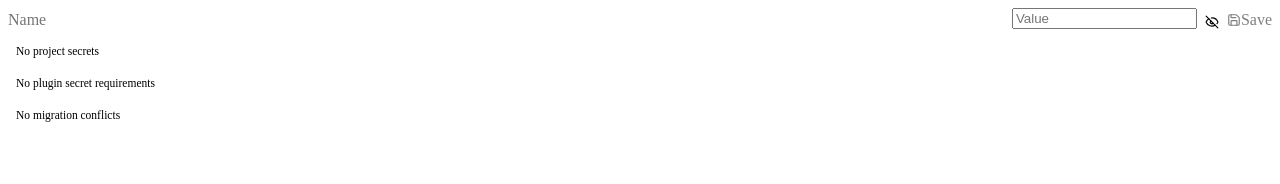
Test: project completion preserves a newer typed draft and refuses duplicate submissions
Type "FIRST" into the field named "Project secret name" at (506, 20), box [8,11,1004,29]
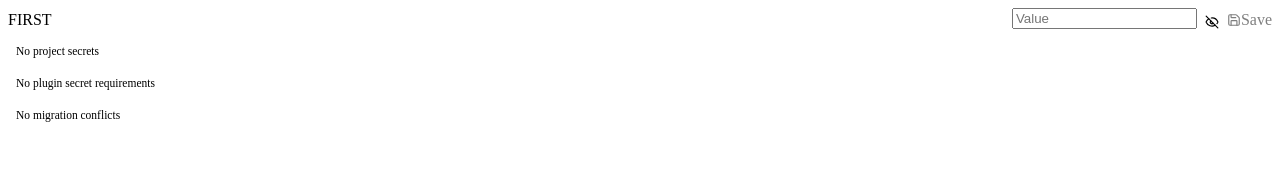
Type "first-value" into the field named "Project secret value" at (1104, 18), box [1012,8,1197,29]
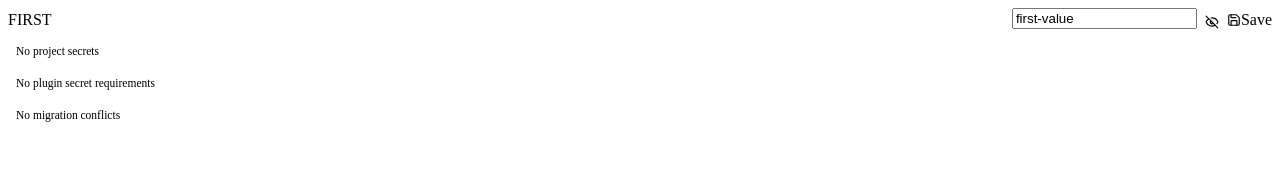
Submit the form named "Project secret name", box [8,8,1272,29]
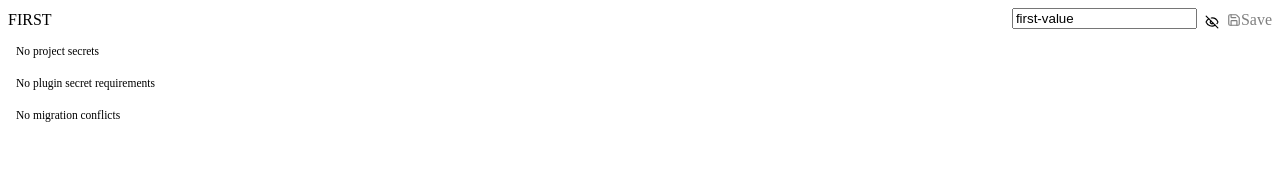
Submit the form named "Project secret name", box [8,8,1272,29]
Replace the text in the field named "Project secret name" with "SECOND" at (506, 20), box [8,11,1004,29]
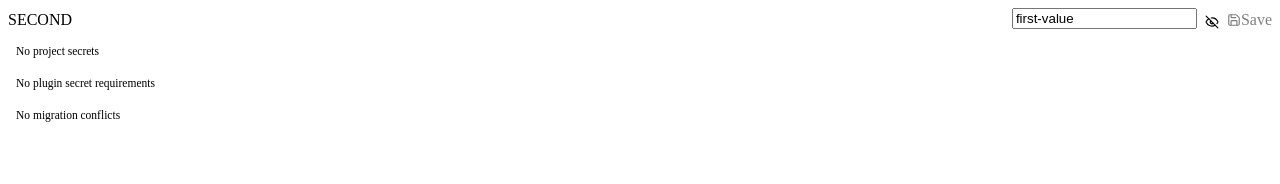
Replace the text in the field named "Project secret value" with "second-value" at (1104, 18), box [1012,8,1197,29]
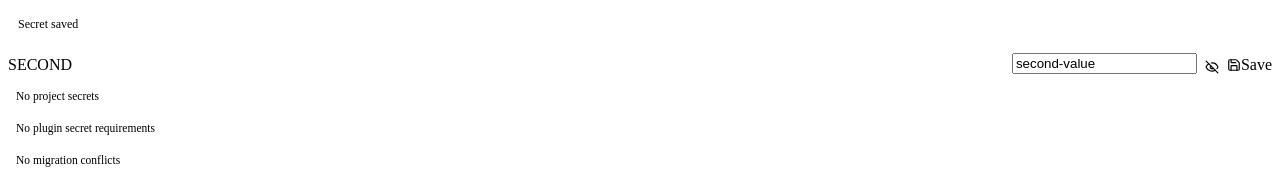
Expected: the button "Save" is enabled, [1227,56,1272,74]
